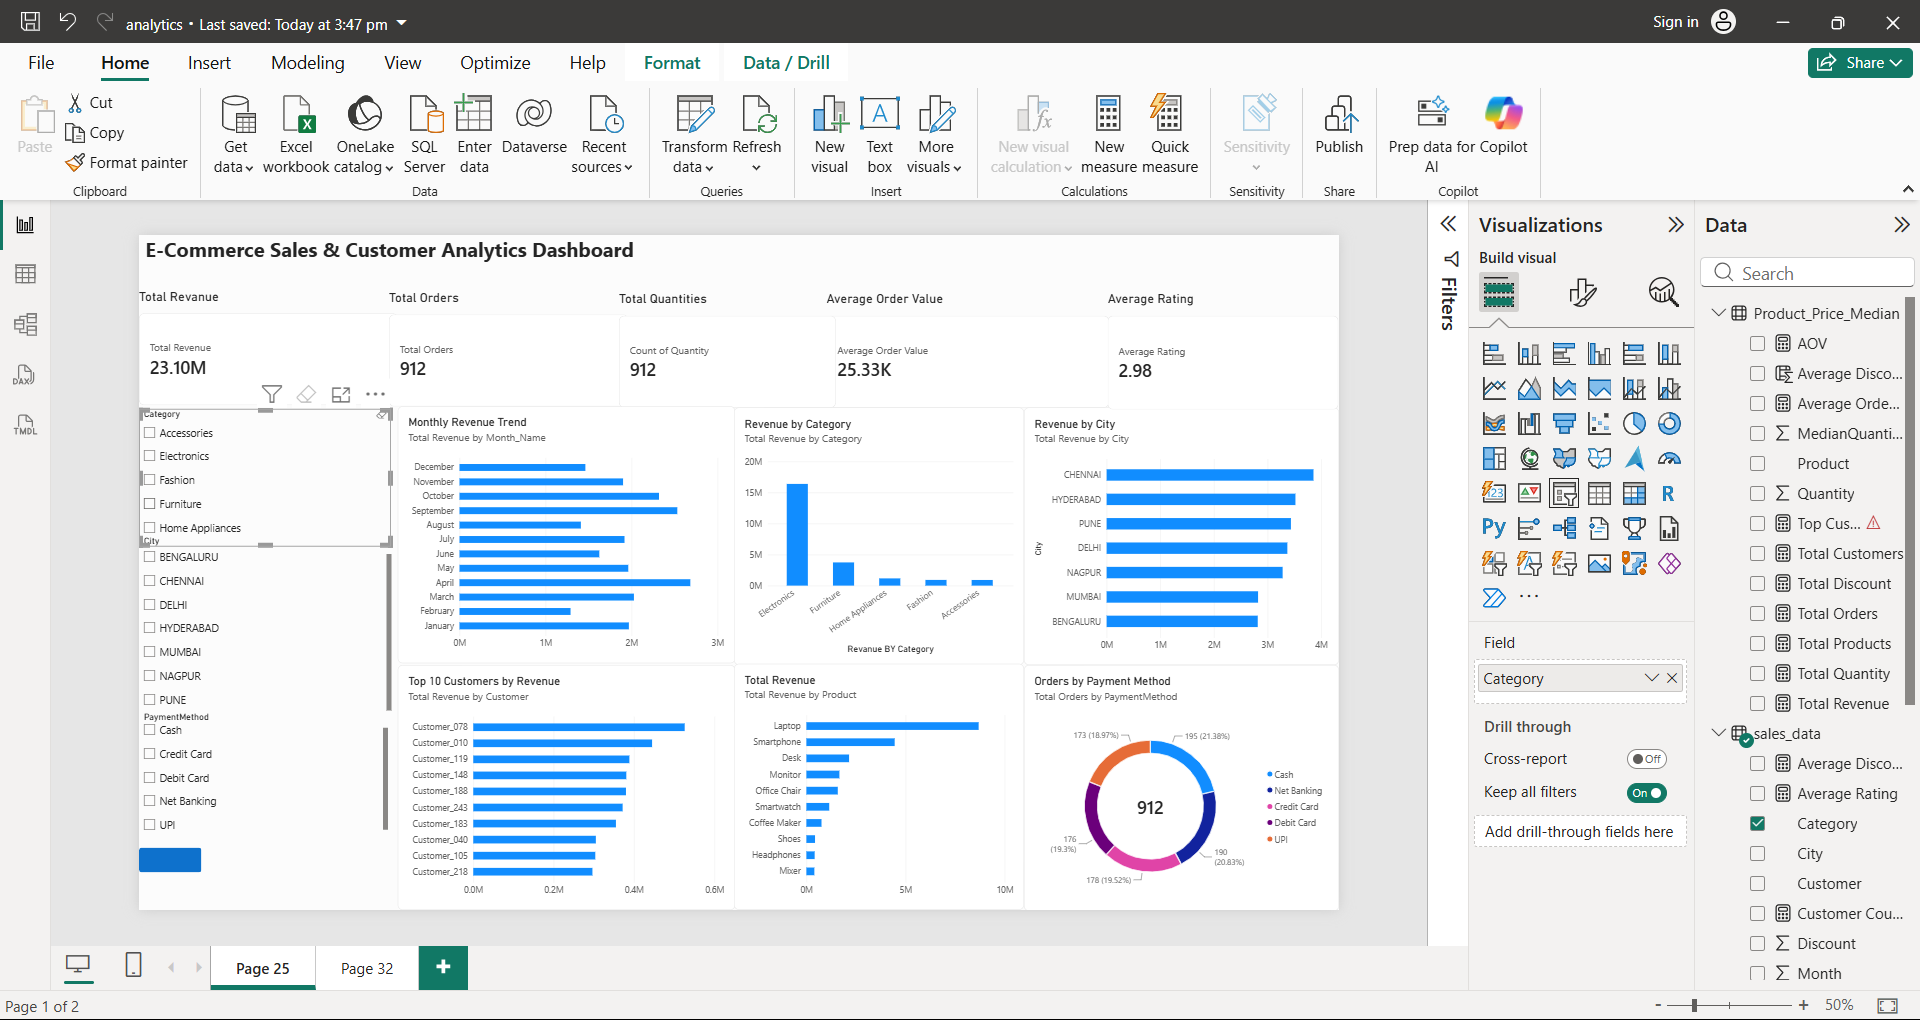

What the dashboard file says about the page in this screenshot:
{"tool":"powerbi","page":{"name":"Page 25","canvas":[1920,1080],"ordinal":0},"visuals":[{"type":"textbox","box":[10.9,0,827,280.5],"z":0},{"type":"textbox","box":[9.4,289.6,12.6,133.8],"z":1000},{"type":"cardVisual","title":"Average Order Value","fields":{"Data":["Product_Price_Median.Average Order Value"]},"box":[1099.4,90.5,452.4,186.4],"z":3000},{"type":"cardVisual","title":"Total Revanue","fields":{"Data":["Product_Price_Median.Total Revenue"]},"box":[0,86.9,414.4,186.4],"z":4000},{"type":"cardVisual","title":"Total Orders","fields":{"Data":["Product_Price_Median.Total Orders"]},"box":[399,88.7,383.6,186.4],"z":5000},{"type":"cardVisual","title":"Total Quantities","fields":{"Data":["CountNonNull(sales_data.Quantity)"]},"box":[767.3,90.5,347.5,186.4],"z":6000},{"type":"clusteredBarChart","title":"Monthly Revenue Trend","fields":{"Category":["Table.Month_Name"],"Y":["Product_Price_Median.Total Revenue"]},"box":[414,273.9,539.9,410.8],"z":7000},{"type":"clusteredColumnChart","title":"Revenue by Category","fields":{"Category":["sales_data.Category"],"Y":["Product_Price_Median.Total Revenue"]},"box":[952.3,275.5,464.3,412.4],"z":8000},{"type":"clusteredBarChart","title":"Revenue by City","fields":{"Category":["sales_data.City"],"Y":["Product_Price_Median.Total Revenue"]},"box":[1416.6,275.5,503.7,412.4],"z":9000},{"type":"clusteredBarChart","title":"Top 10 Customers by Revenue","fields":{"Category":["sales_data.Customer"],"Y":["Product_Price_Median.Total Revenue"]},"box":[414,687.9,539.9,391.9],"z":10000},{"type":"clusteredBarChart","title":"Total Revenue","fields":{"Category":["sales_data.Product"],"Y":["Product_Price_Median.Total Revenue"]},"box":[952.3,686.3,464.3,393.5],"z":11000},{"type":"donutChart","title":"Orders by Payment Method","fields":{"Category":["sales_data.PaymentMethod"],"Y":["Product_Price_Median.Total Orders"]},"box":[1416.6,687.9,503.7,393.5],"z":12000},{"type":"slicer","fields":{"Values":["sales_data.Category"]},"box":[0,277.1,404.1,219.9],"z":13000},{"type":"slicer","fields":{"Values":["sales_data.City"]},"box":[0,481,404.1,280.7],"z":14000},{"type":"slicer","fields":{"Values":["sales_data.PaymentMethod"]},"box":[0,761.7,398.7,194.9],"z":15000},{"type":"actionButton","box":[0,979.4,100,40],"z":16000},{"type":"cardVisual","title":"Average Rating","fields":{"Data":["sales_data.Average Rating"]},"box":[1550.9,89.6,369.1,189.9],"z":16001}]}

Visuals, with their boxes on the page's 1920x1080 design canvas (x1, y1, x2, y2). These are canvas units, not pixel positions in the 1920x1020 screenshot, which may show the page scaled, cropped or inside an application window:
textbox: [x1=11, y1=0, x2=838, y2=280]
textbox: [x1=9, y1=290, x2=22, y2=423]
"Average Order Value" cardVisual: [x1=1099, y1=90, x2=1552, y2=277]
"Total Revanue" cardVisual: [x1=0, y1=87, x2=414, y2=273]
"Total Orders" cardVisual: [x1=399, y1=89, x2=783, y2=275]
"Total Quantities" cardVisual: [x1=767, y1=90, x2=1115, y2=277]
"Monthly Revenue Trend" clusteredBarChart: [x1=414, y1=274, x2=954, y2=685]
"Revenue by Category" clusteredColumnChart: [x1=952, y1=276, x2=1417, y2=688]
"Revenue by City" clusteredBarChart: [x1=1417, y1=276, x2=1920, y2=688]
"Top 10 Customers by Revenue" clusteredBarChart: [x1=414, y1=688, x2=954, y2=1080]
"Total Revenue" clusteredBarChart: [x1=952, y1=686, x2=1417, y2=1080]
"Orders by Payment Method" donutChart: [x1=1417, y1=688, x2=1920, y2=1081]
slicer - sales_data.Category: [x1=0, y1=277, x2=404, y2=497]
slicer - sales_data.City: [x1=0, y1=481, x2=404, y2=762]
slicer - sales_data.PaymentMethod: [x1=0, y1=762, x2=399, y2=957]
actionButton: [x1=0, y1=979, x2=100, y2=1019]
"Average Rating" cardVisual: [x1=1551, y1=90, x2=1920, y2=280]
